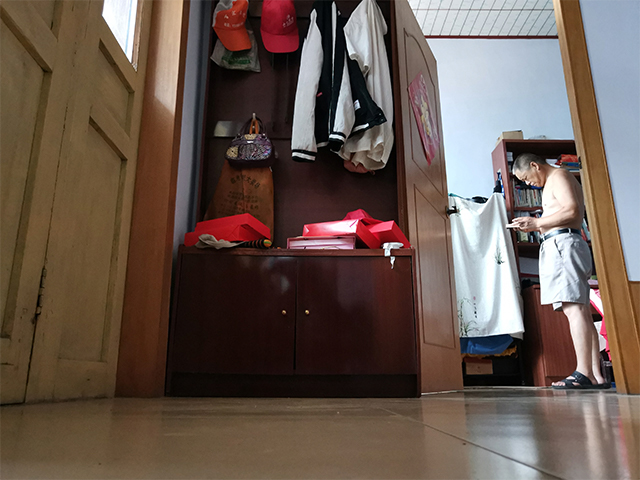cabinet: (164, 242, 416, 399)
